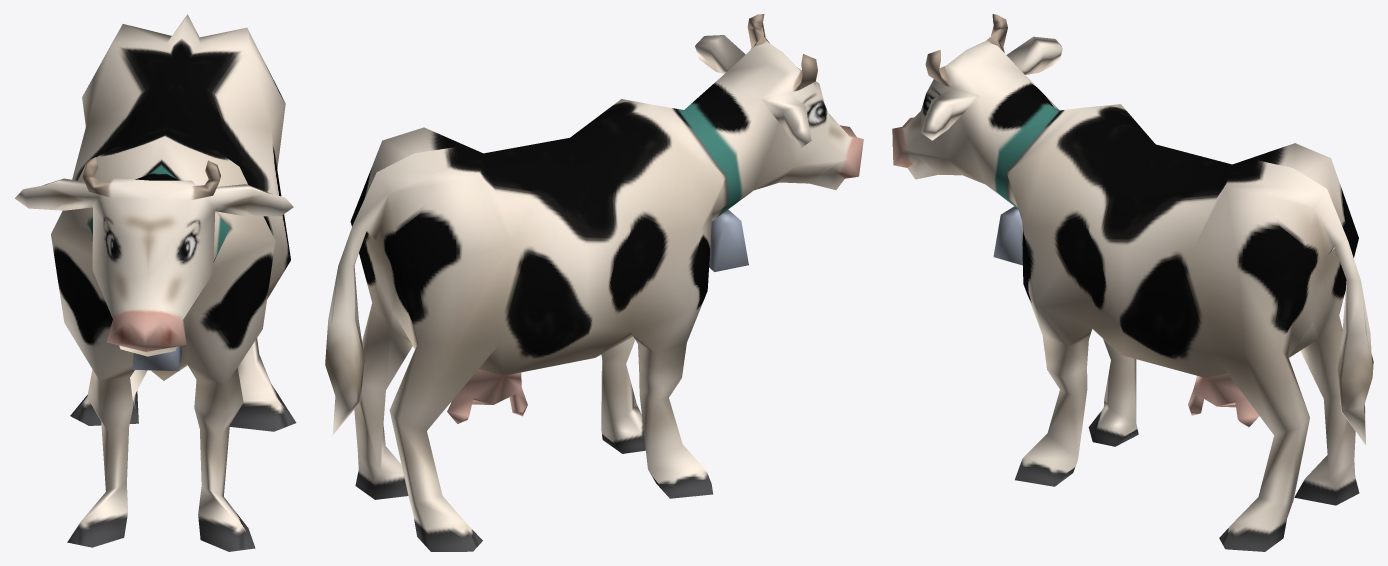
The model's file is cow.fbx.
3 views of the same model, side by side, from view 1: azimuth 30°, elevation 25°; view 2: azimuth 150°, elevation 25°; view 3: azimuth 270°, elevation 25° (orthographic). The views are drawn at different scales.
Parts seen in each view (by area): view 1: cow; view 2: cow; view 3: cow.
Part boxes in pixels (x1=…): cow: x1=14, y1=14, x2=296, y2=551; cow: x1=325, y1=14, x2=863, y2=551; cow: x1=892, y1=14, x2=1373, y2=551.
Bounding box in the file's own units: 124 × 137 × 152.
1 material, 1 textured.
